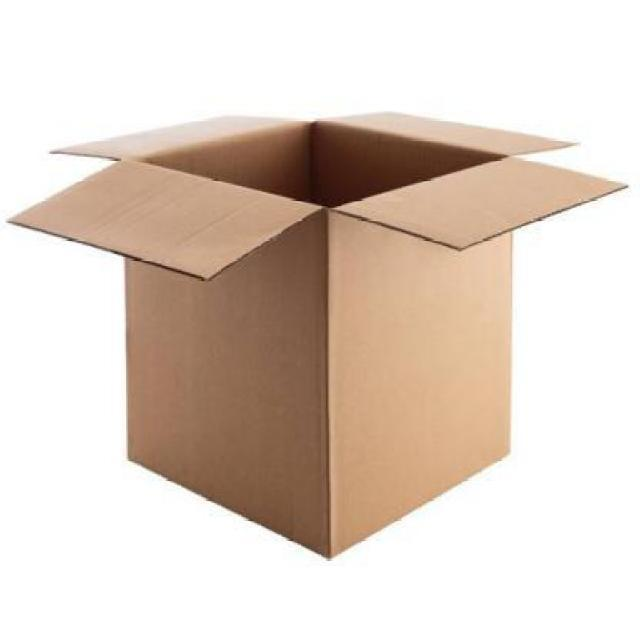box: (31, 109, 614, 559)
